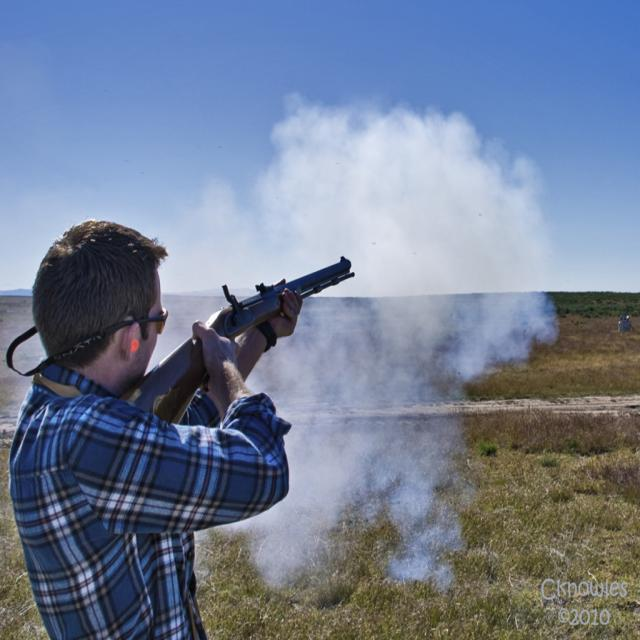weapon: (119, 256, 355, 424)
